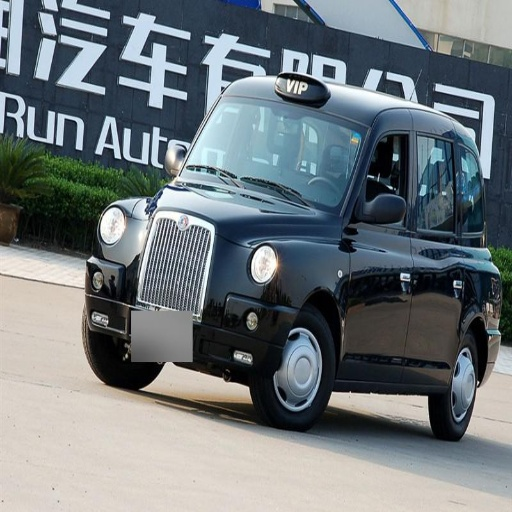front_bumper: (90, 252, 296, 386)
front_glass: (184, 98, 365, 209)
trunk: (152, 217, 211, 269)
